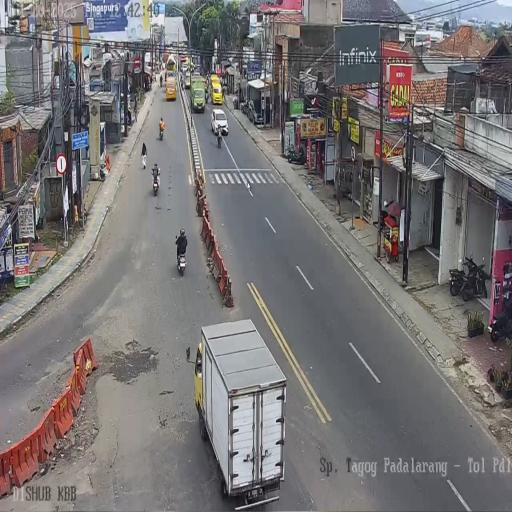car: (210, 110, 228, 136), (210, 76, 223, 105), (166, 75, 176, 100), (184, 73, 191, 89)
motorcycle: (461, 254, 488, 302), (489, 287, 512, 342), (449, 267, 466, 296), (286, 142, 306, 165), (176, 241, 187, 276), (151, 166, 161, 196), (240, 98, 249, 115), (216, 128, 223, 148), (158, 124, 164, 140), (222, 84, 227, 98), (180, 73, 184, 89), (233, 94, 237, 109), (160, 75, 162, 87)
truck: (194, 316, 287, 502), (190, 75, 206, 113), (165, 54, 177, 80), (144, 52, 151, 76), (184, 56, 194, 72)
